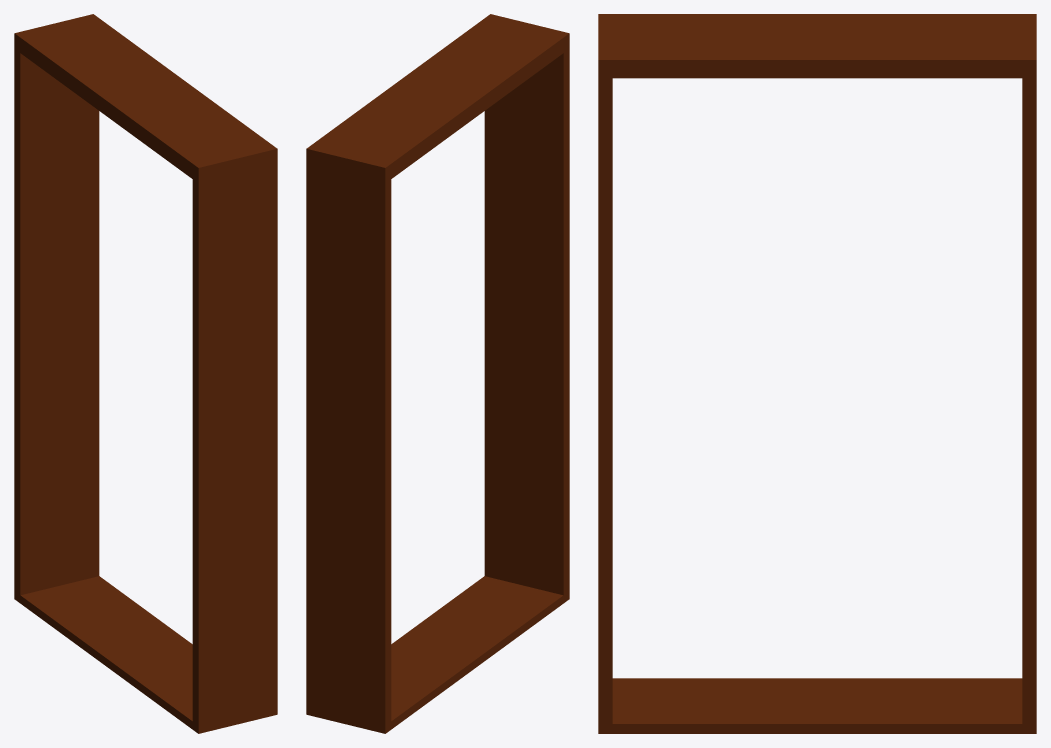
File: DoorFrame.fbx
3 views of the same model, side by side, from view 1: azimuth 30°, elevation 25°; view 2: azimuth 150°, elevation 25°; view 3: azimuth 270°, elevation 25° (orthographic). The views are drawn at different scales.
Parts seen in each view (by area): view 1: DoorFrame; view 2: DoorFrame; view 3: DoorFrame.
Boxes of the visible parts, x1,y1,x2,y2 form: DoorFrame: (14,14,277,733); DoorFrame: (306,14,569,733); DoorFrame: (598,14,1036,733).
Size of the model in its own units: 1 by 6.85 by 4.04.
Materials: 1 (1 with a texture image).
